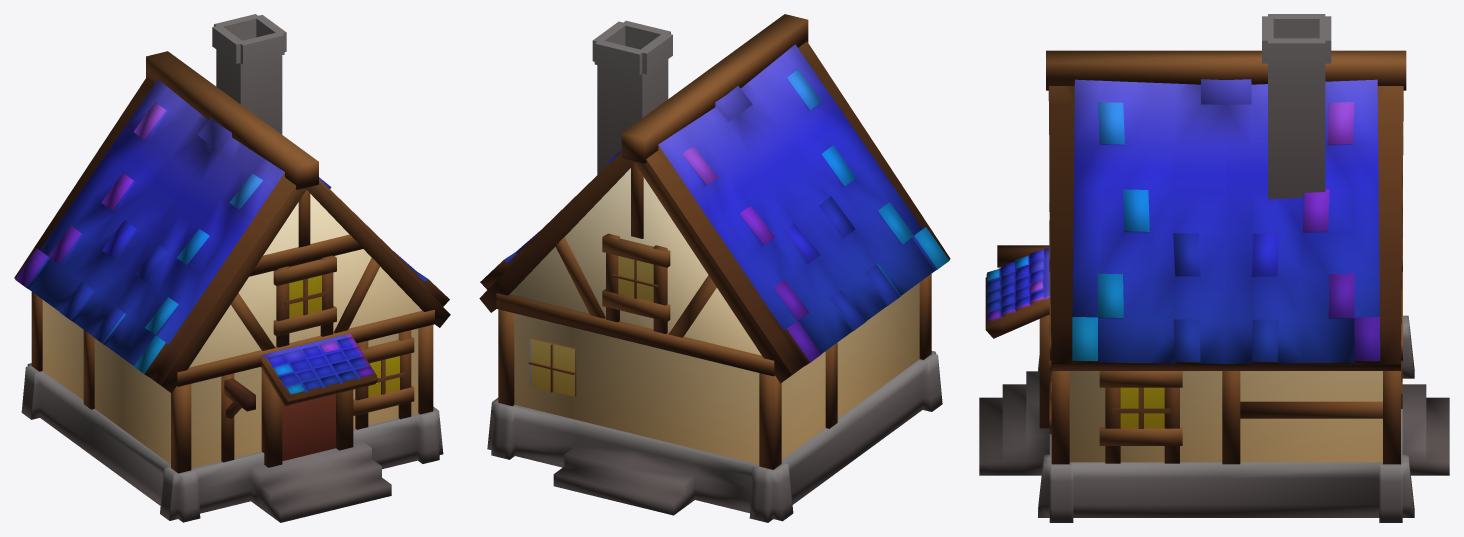
The model's file is House.glb.
3 renders of one model, left to right at view 1: azimuth 30°, elevation 25°; view 2: azimuth 150°, elevation 25°; view 3: azimuth 270°, elevation 25°, orthographic. The views are drawn at different scales.
Parts seen in each view (by area): view 1: Cube.002, Cube; view 2: Cube.002, Cube; view 3: Cube.002, Cube.
Part boxes in pixels (left/top/right/bottom): Cube.002: left=14, top=51, right=450, bottom=522; Cube: left=212, top=14, right=286, bottom=134; Cube.002: left=479, top=14, right=950, bottom=522; Cube: left=592, top=20, right=672, bottom=174; Cube.002: left=979, top=50, right=1449, bottom=522; Cube: left=1262, top=14, right=1331, bottom=199.
Bounding box in the file's own units: 7.16 × 8.29 × 8.
Materials: 1 (1 with a texture image).
